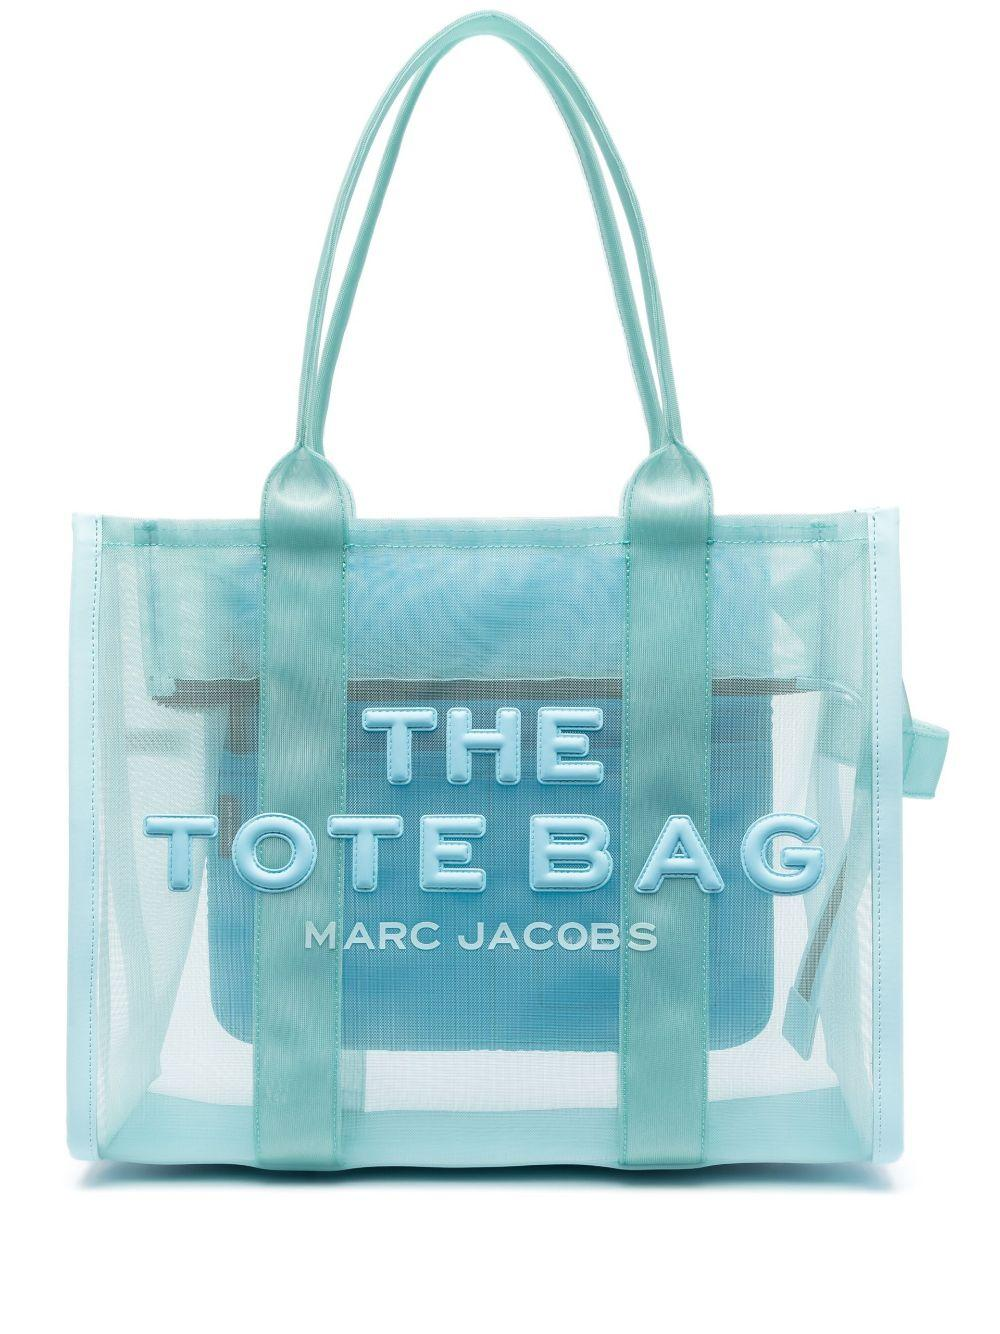MARC-JACOBS: (305, 920, 658, 952)
